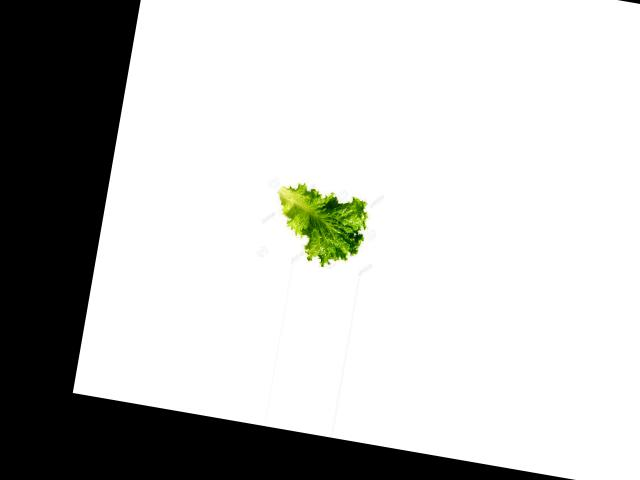lettuce: (266, 183, 371, 271)
